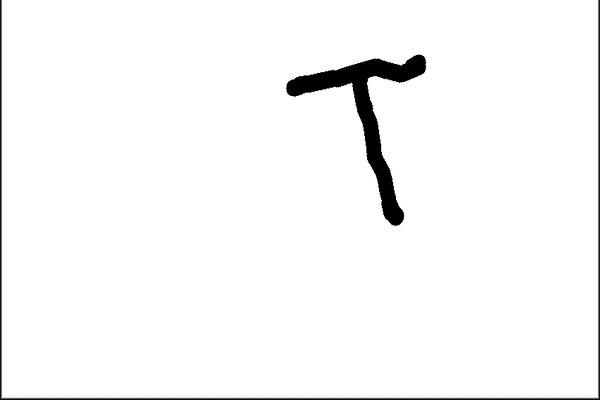T: (282, 48, 440, 227)
